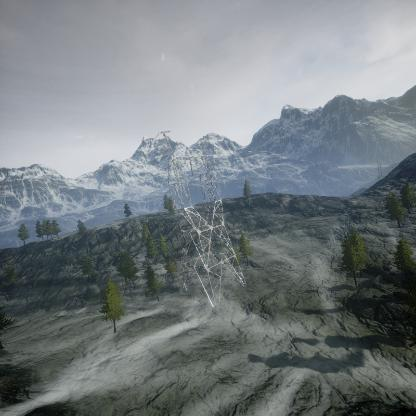tower: (152, 129, 251, 320)
